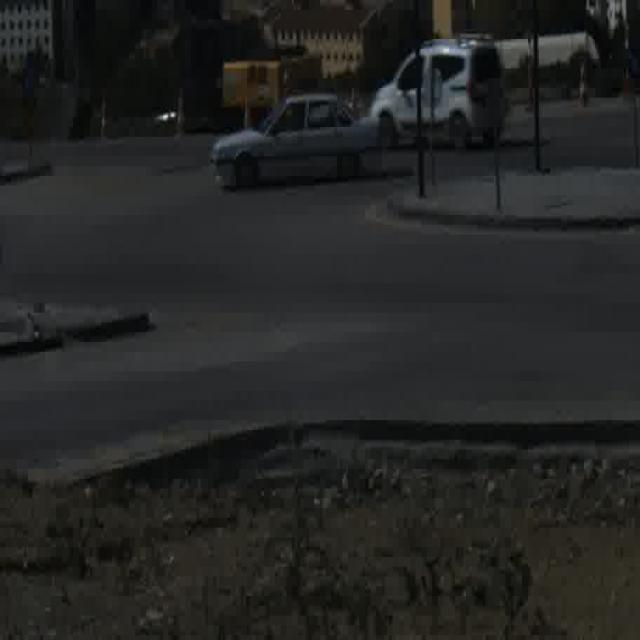Car: (212, 92, 380, 189), (372, 32, 508, 151)
